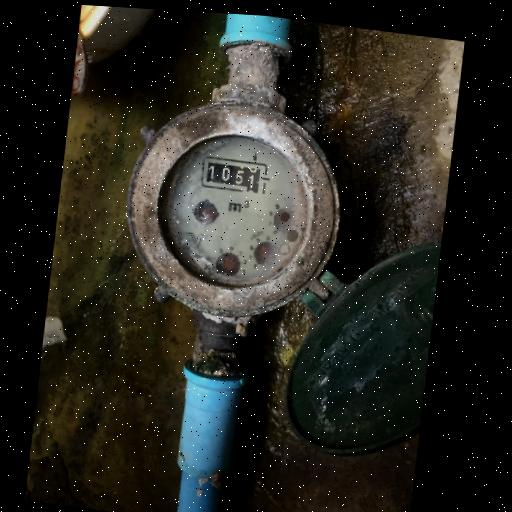0: (220, 163, 233, 184)
1: (246, 167, 259, 194), (207, 161, 218, 183)
5: (232, 165, 246, 186)
border_water_meter_number: (199, 155, 272, 196)
